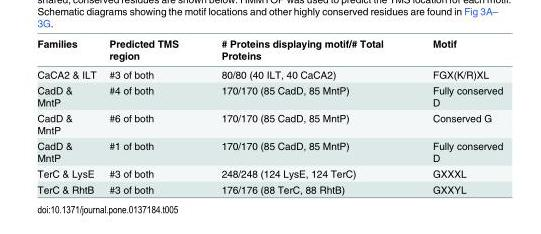table: (36, 37, 502, 194)
table column: (199, 37, 407, 194), (102, 37, 199, 194), (407, 37, 502, 194), (36, 37, 102, 194)
table column header: (36, 37, 502, 64)
table row: (36, 109, 502, 137), (36, 137, 502, 165), (36, 37, 502, 64), (36, 82, 502, 109), (36, 64, 502, 82), (36, 165, 502, 181), (36, 181, 502, 194)
